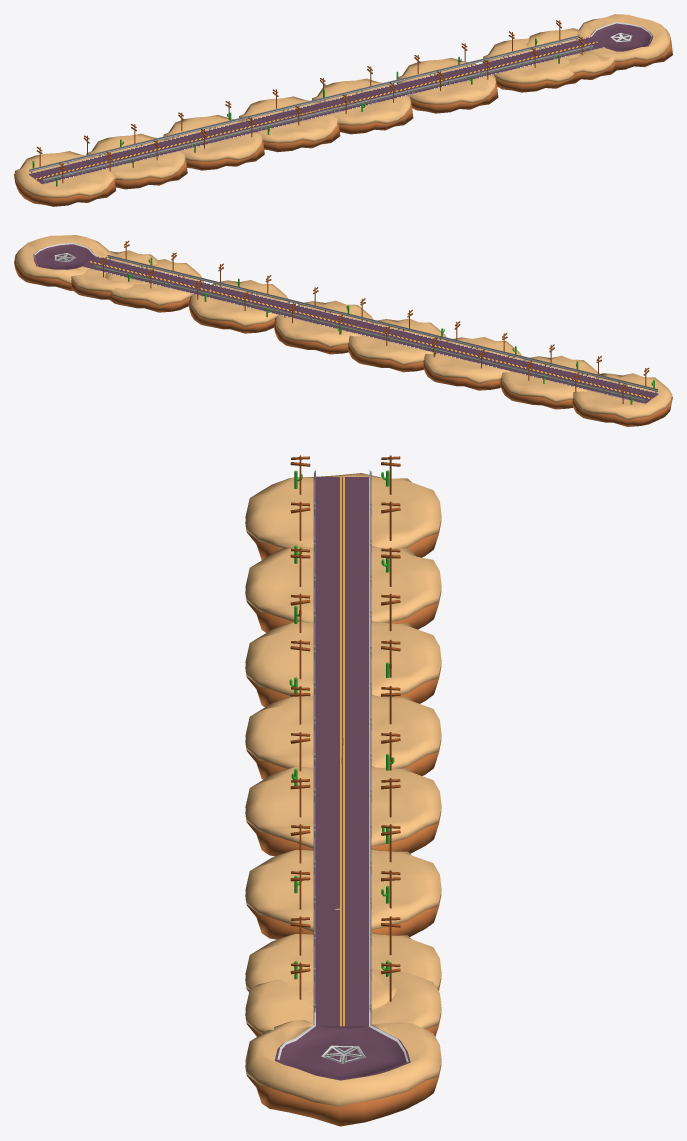
File: Car_Factory_Racing_Road.fbx
The picture shows the model from 3 angles, top to bottom: view 1: azimuth 30°, elevation 25°; view 2: azimuth 150°, elevation 25°; view 3: azimuth 270°, elevation 25°; orthographic projection. The views are drawn at different scales.
Visible parts, largest first — view 1: Racing_Road; view 2: Racing_Road; view 3: Racing_Road.
Part boxes in pixels (x1,y1,x2,y2): Racing_Road: (14,14,672,206); Racing_Road: (14,235,672,426); Racing_Road: (245,455,441,1126).
Size of the model in its own units: 34.52 by 1.81 by 4.55.
